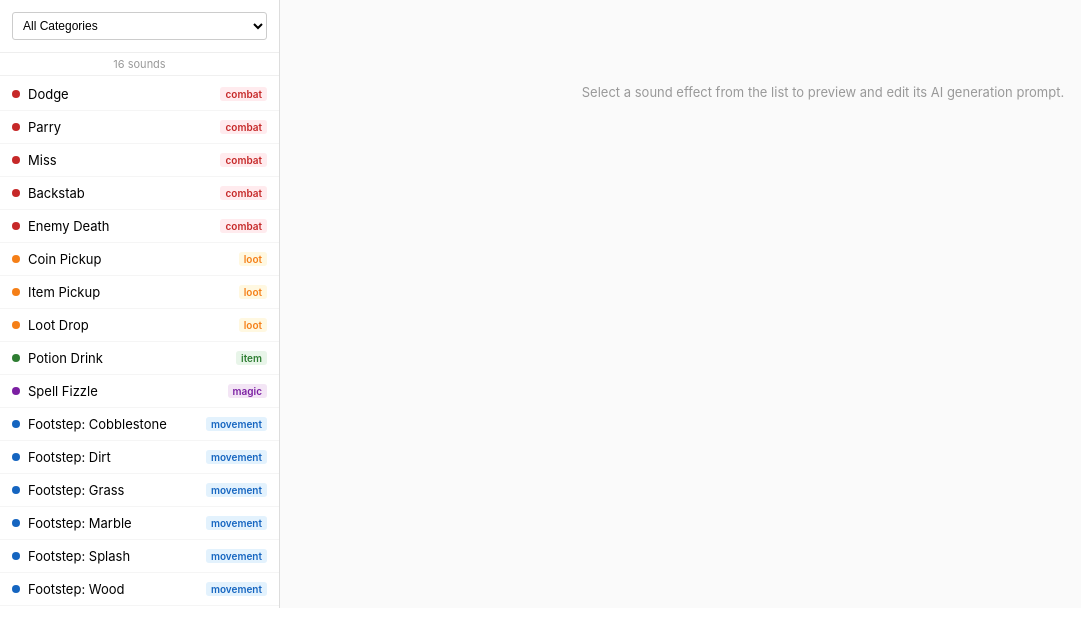
Scenario: DefaultSfxEditor › selecting category filter narrows list
This screenshot has width=1081, height=625.
Check: the text "16 sounds" is shown, box [0,53,279,76]
Select "Combat" in the dropdown showing "All Categories" at (140, 26), box [12,12,267,40]
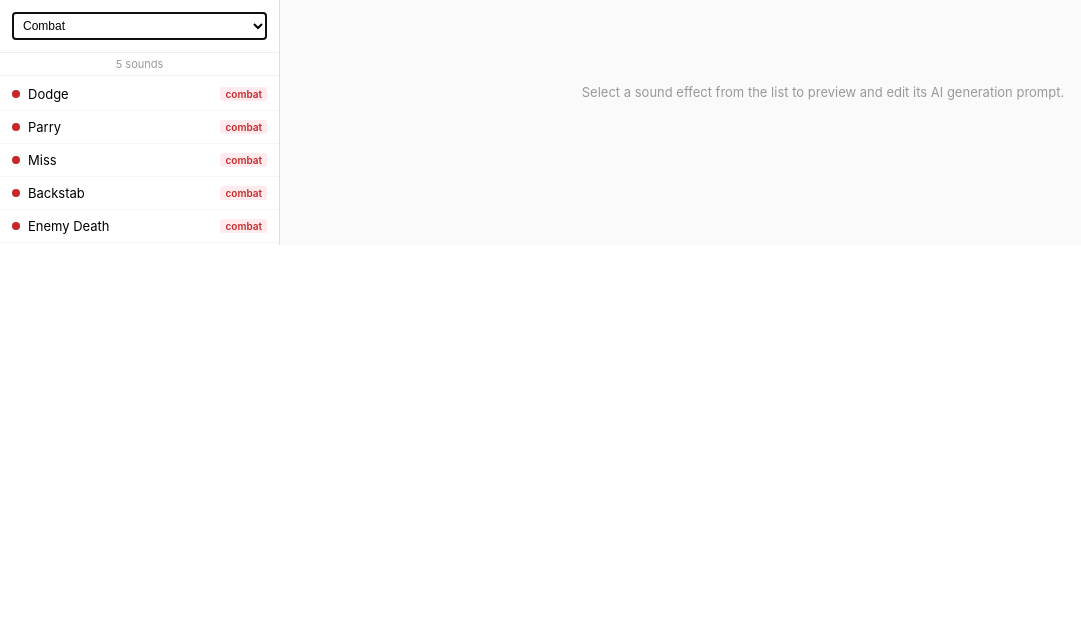
Check: the text "5 sounds" is shown, box [0,53,279,76]
